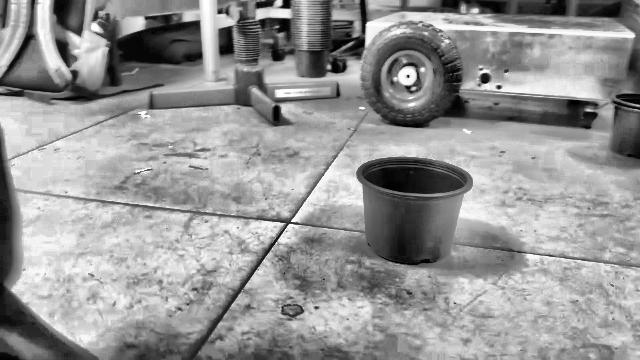pot: (357, 157, 472, 264), (611, 93, 639, 159)
